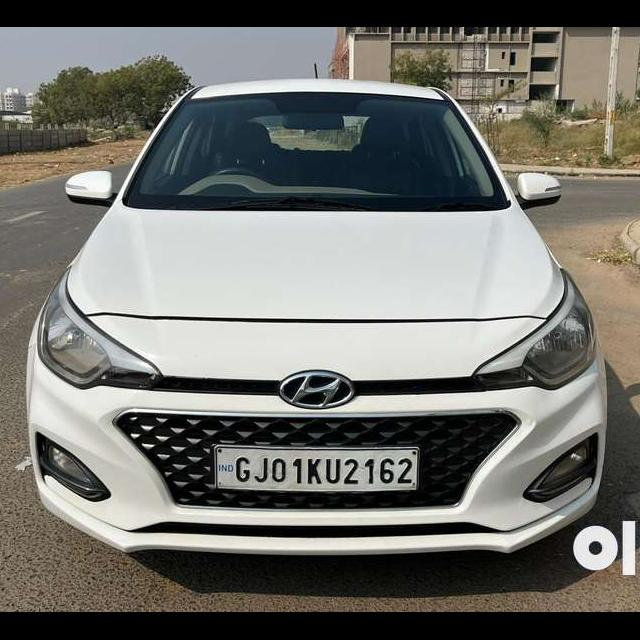Indian_Number_Plate: (218, 444, 419, 491)
